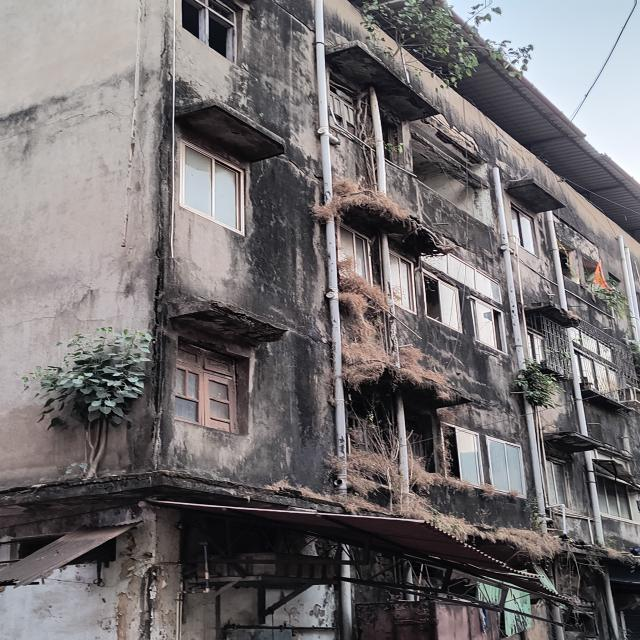Moss growth due to damping: (22, 327, 152, 475), (360, 0, 533, 86)
